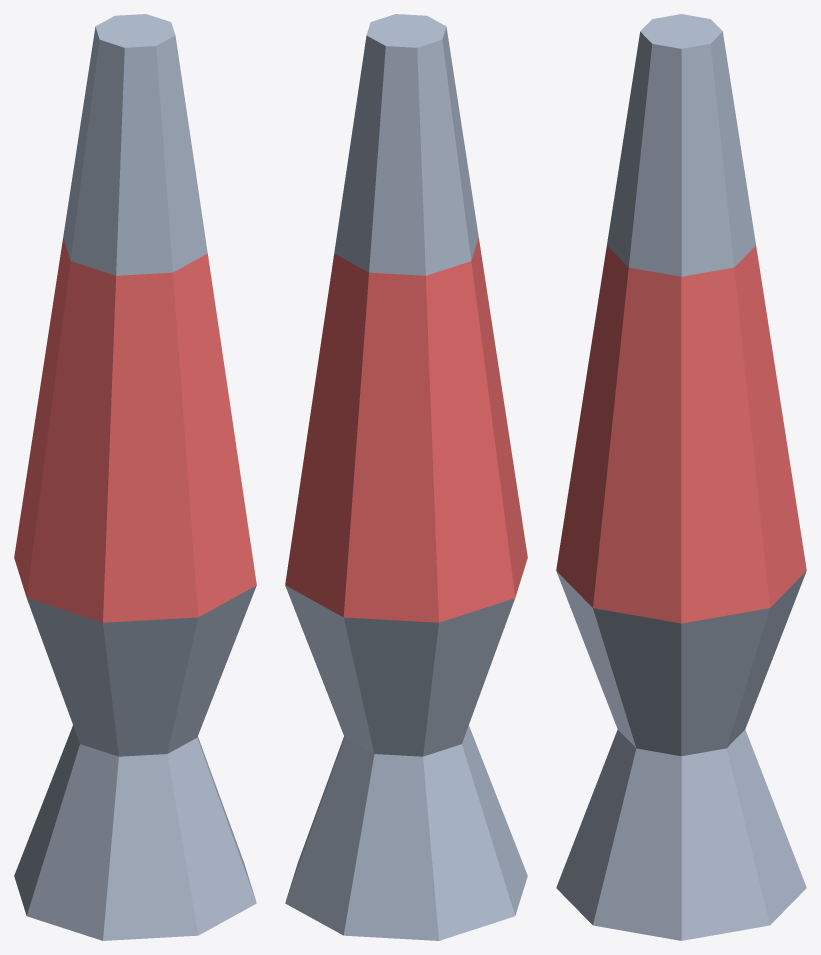
The model's file is Lamp_01.fbx.
The picture shows the model from 3 angles, left to right: view 1: azimuth 30°, elevation 25°; view 2: azimuth 150°, elevation 25°; view 3: azimuth 270°, elevation 25°; orthographic projection.
Parts seen in each view (by area): view 1: Circle.095; view 2: Circle.095; view 3: Circle.095.
Part boxes in pixels (x1=…): Circle.095: x1=14, y1=14, x2=256, y2=940; Circle.095: x1=285, y1=14, x2=527, y2=940; Circle.095: x1=556, y1=14, x2=806, y2=940.
Bounding box in the file's own units: 0.2959 × 0.2959 × 1.12.
